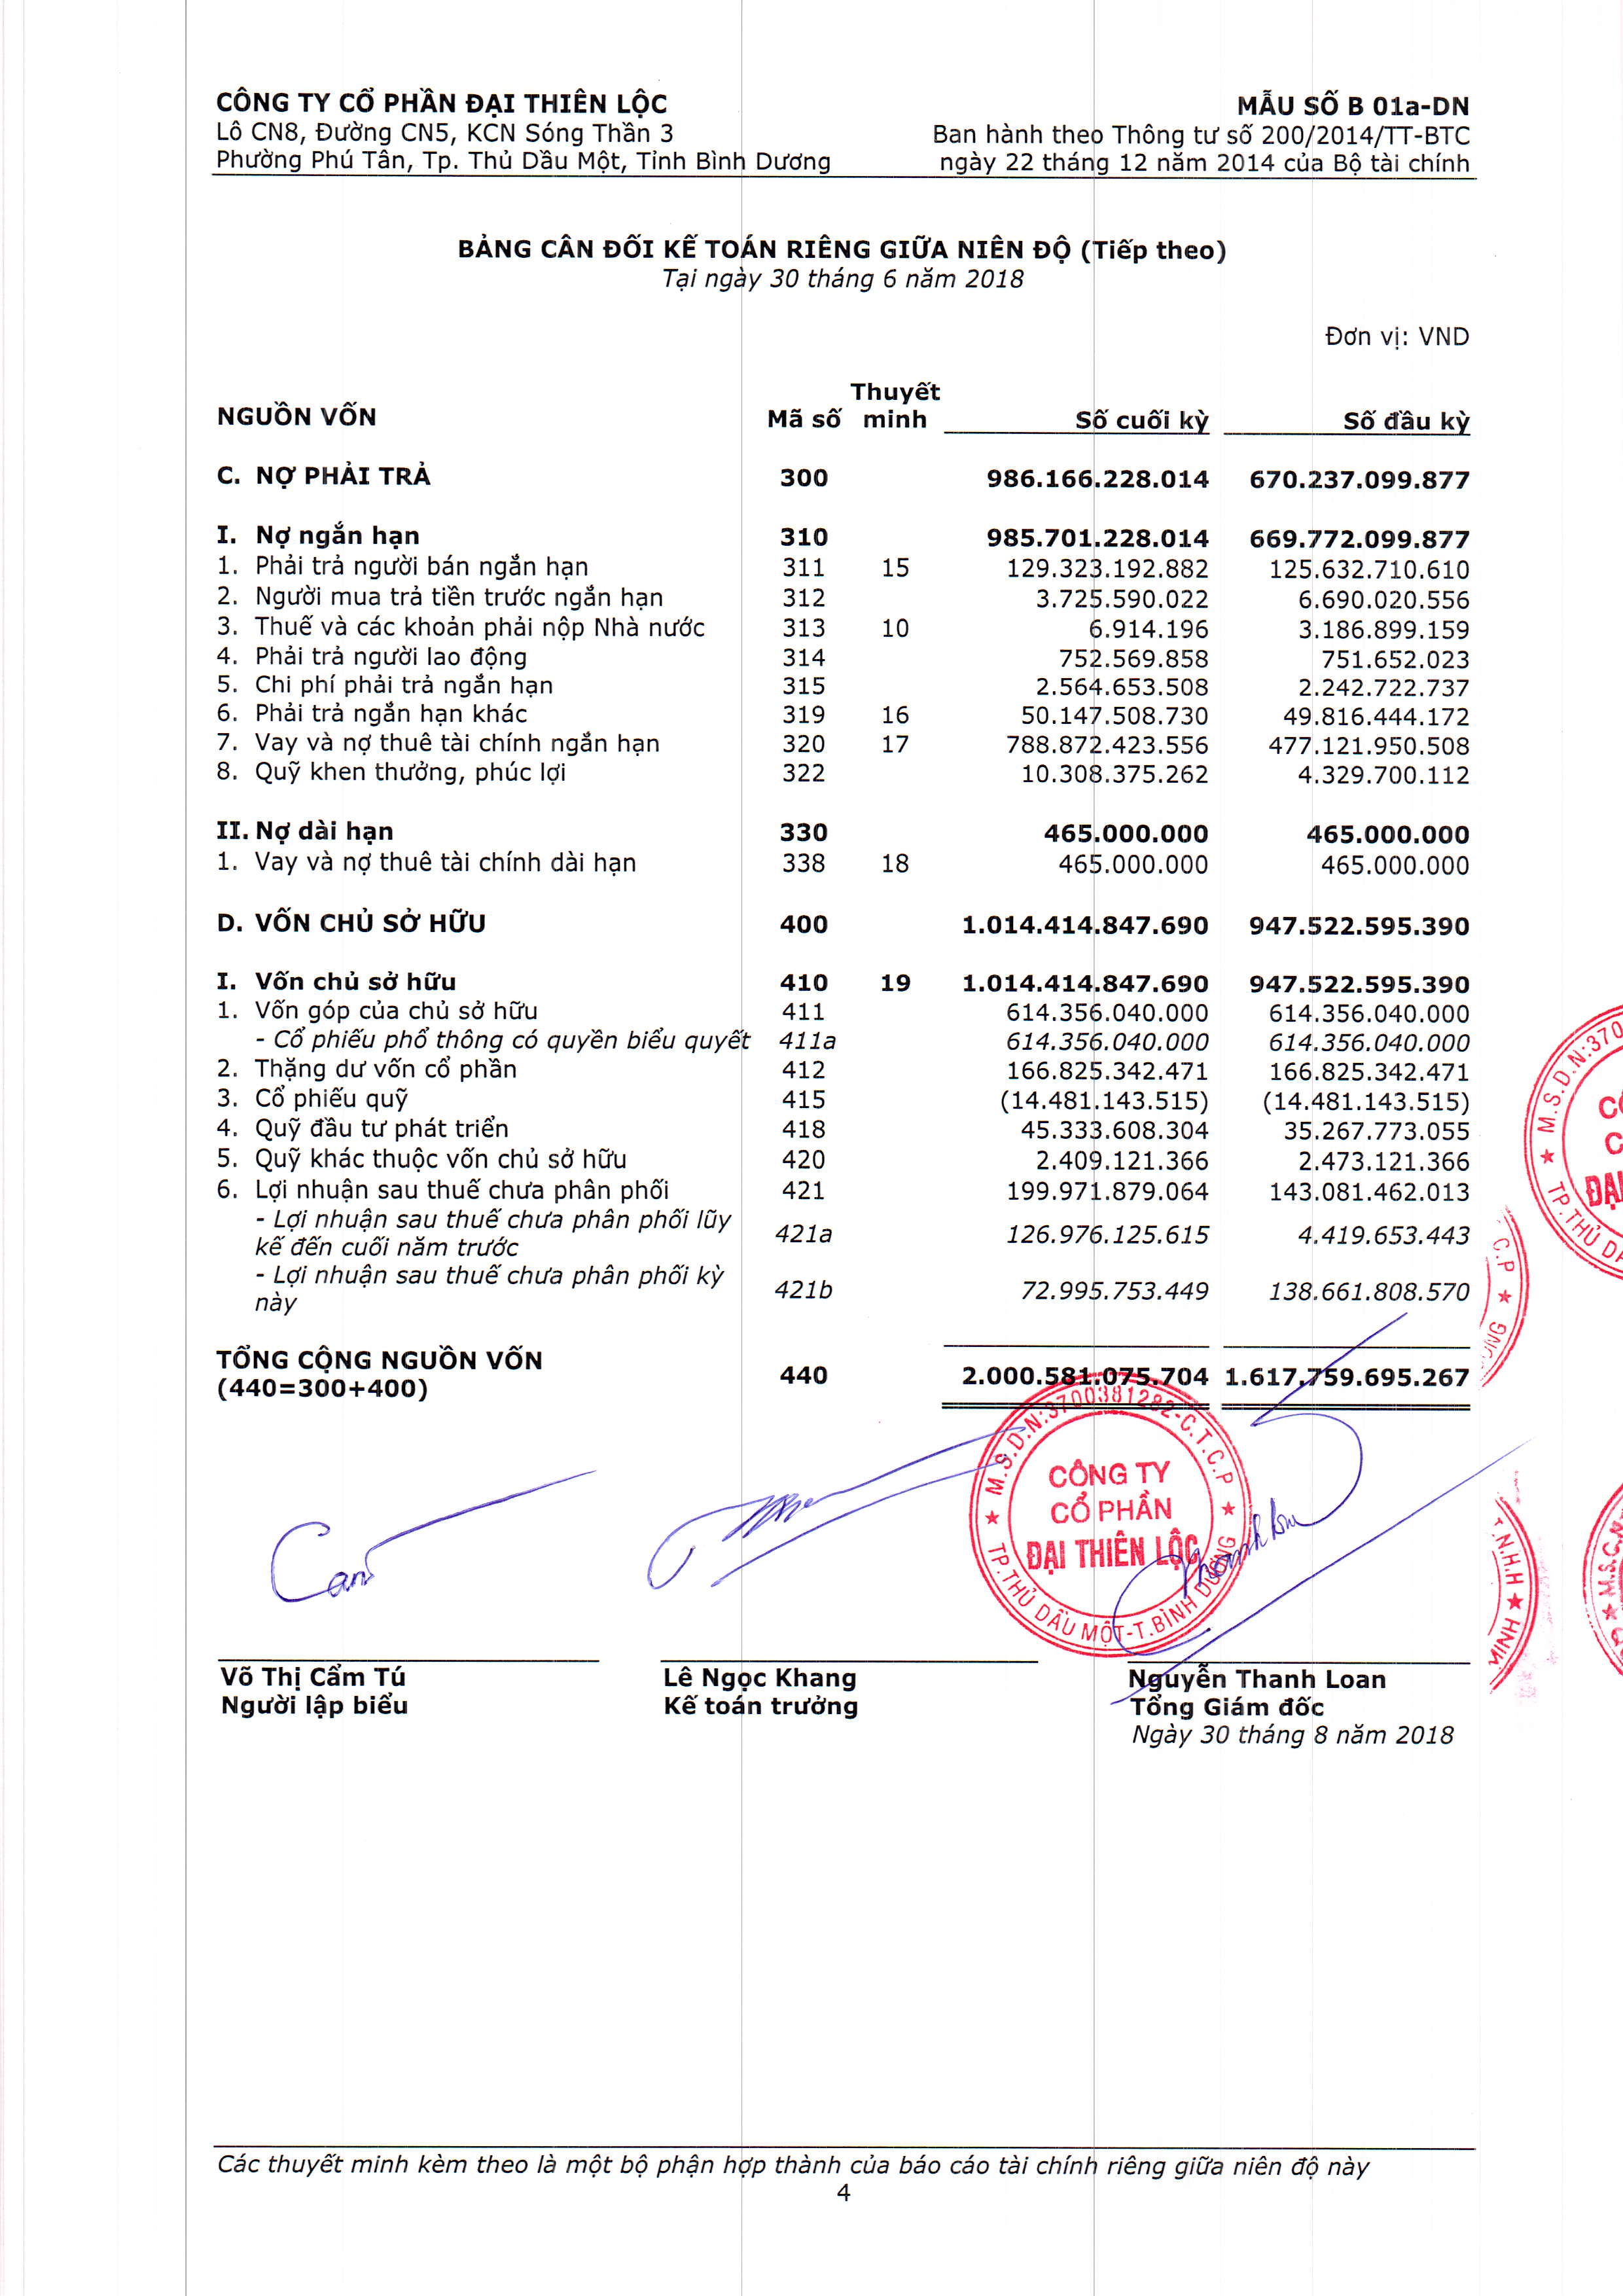table: (198, 365, 1490, 1428)
table column: (211, 365, 759, 1428), (959, 365, 1215, 1428), (1223, 365, 1475, 1428), (848, 365, 945, 1428), (762, 365, 847, 1428)
table column header: (198, 376, 1490, 439)
table row: (198, 376, 1490, 437), (198, 1342, 1490, 1404), (198, 1261, 1490, 1318), (198, 1205, 1490, 1260), (198, 451, 1490, 497), (198, 518, 1490, 552), (198, 906, 1490, 940), (198, 963, 1490, 994), (198, 552, 1490, 581), (198, 613, 1490, 643), (198, 1114, 1490, 1144), (198, 583, 1490, 611), (198, 643, 1490, 671), (198, 671, 1490, 699), (198, 701, 1490, 729), (198, 729, 1490, 757), (198, 759, 1490, 787), (198, 817, 1490, 845), (198, 848, 1490, 877), (198, 996, 1490, 1024), (198, 1024, 1490, 1052), (198, 1054, 1490, 1082), (198, 1084, 1490, 1112), (198, 1145, 1490, 1173), (198, 1175, 1490, 1203)
